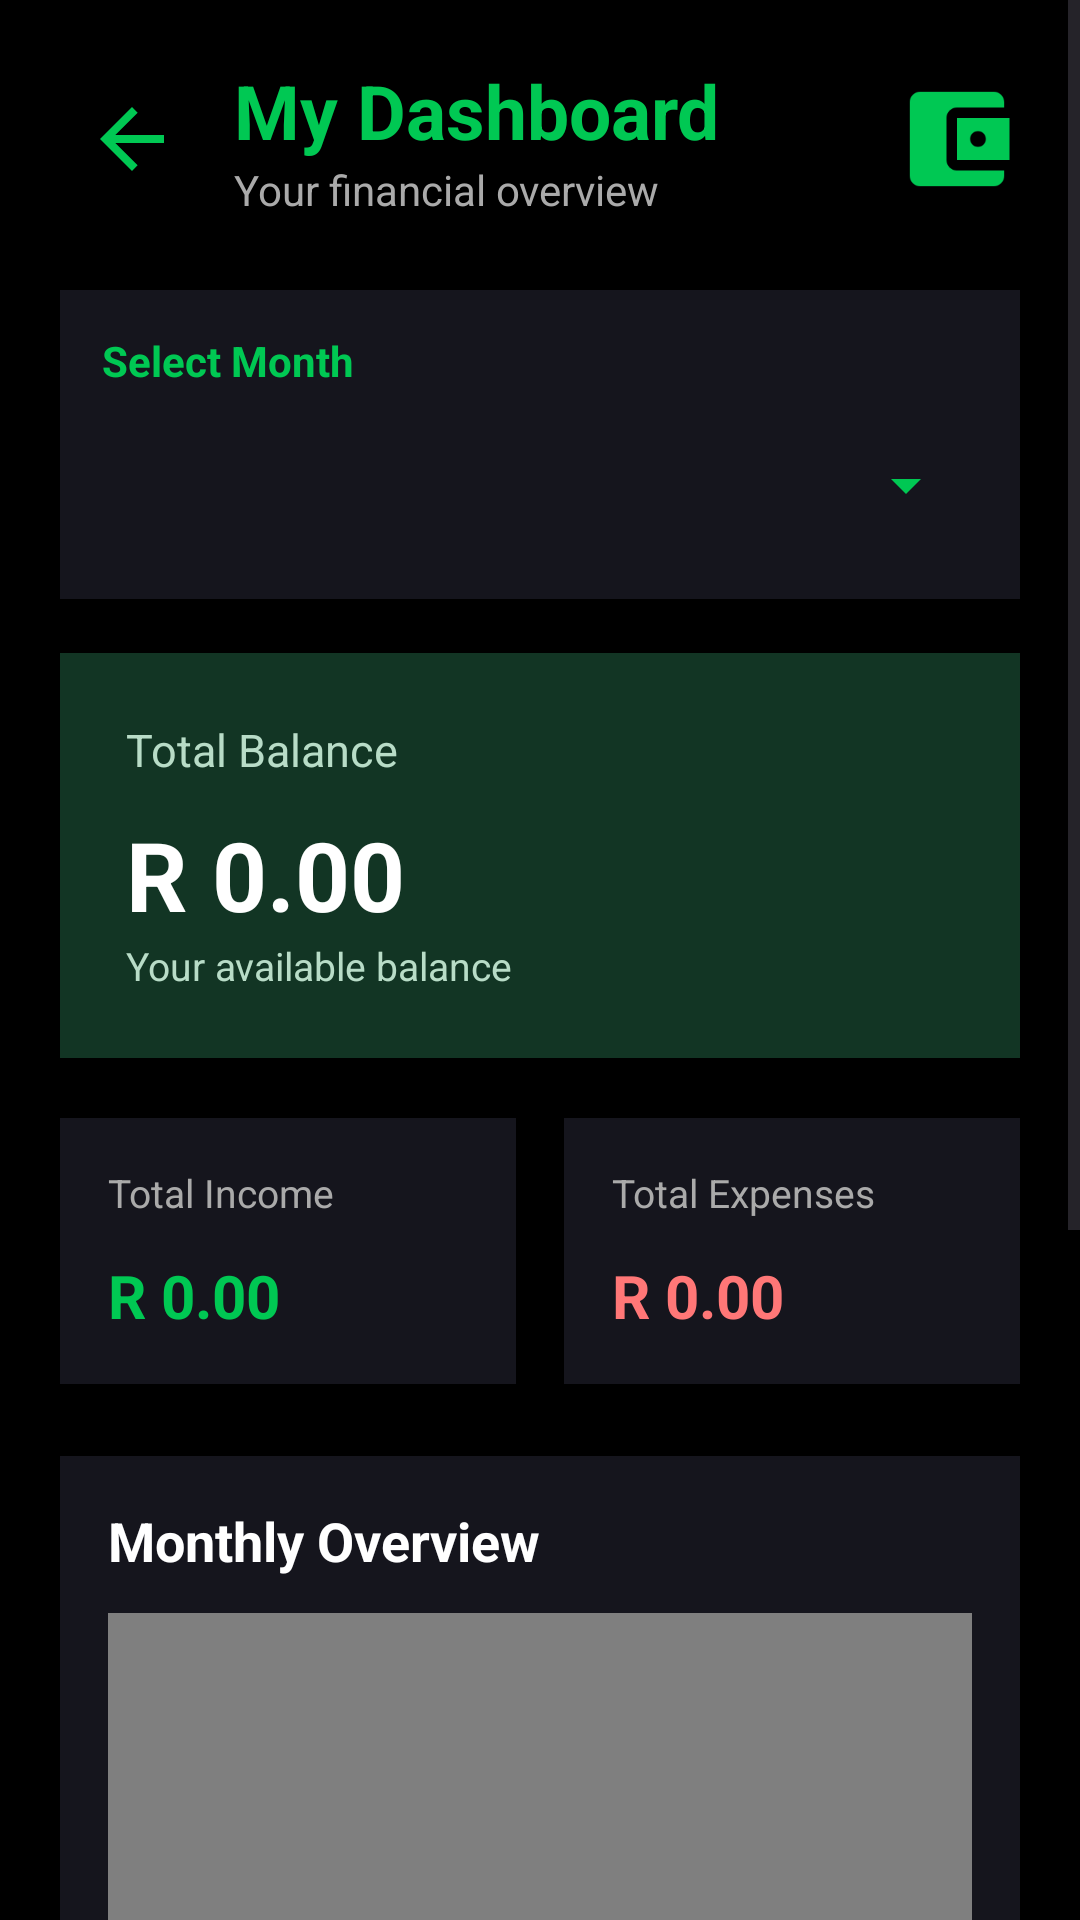

Screen size 1080 x 1920. Icon name, then its box in pixels as (x1, y1, x2, y2):
Back to Main Screen": (100, 107, 164, 171)
Wallet: (909, 91, 1010, 187)
